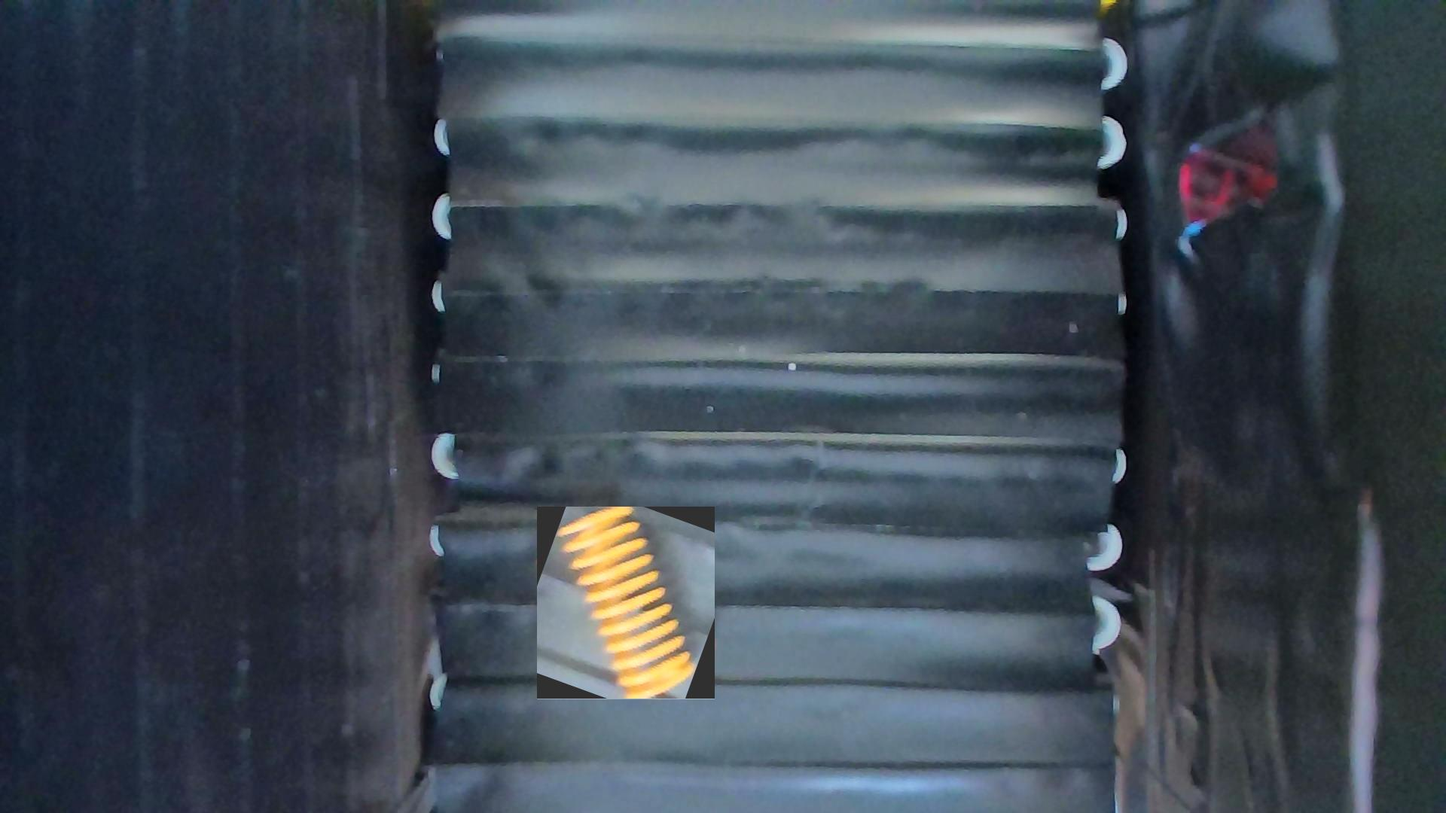spring: (537, 507, 715, 700)
